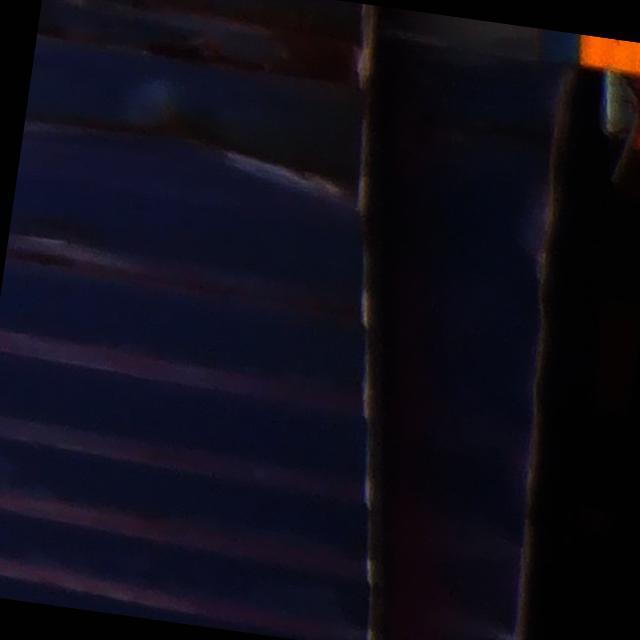rust: (12, 1, 385, 265)
